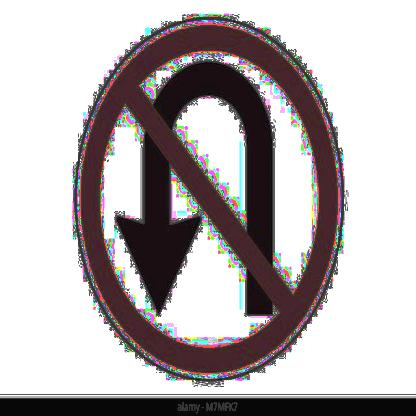No U-turn: (63, 13, 348, 385)
